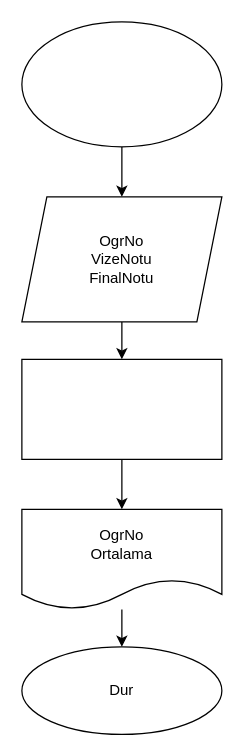
Image size: 244x756. Some labels were removed from this diagram. The centre of each missing label's shape, as x and y in pixels:
Başla: the point at 121,84
Ortalama=(VizeNotu+FinalNotu)/2: the point at 121,408
